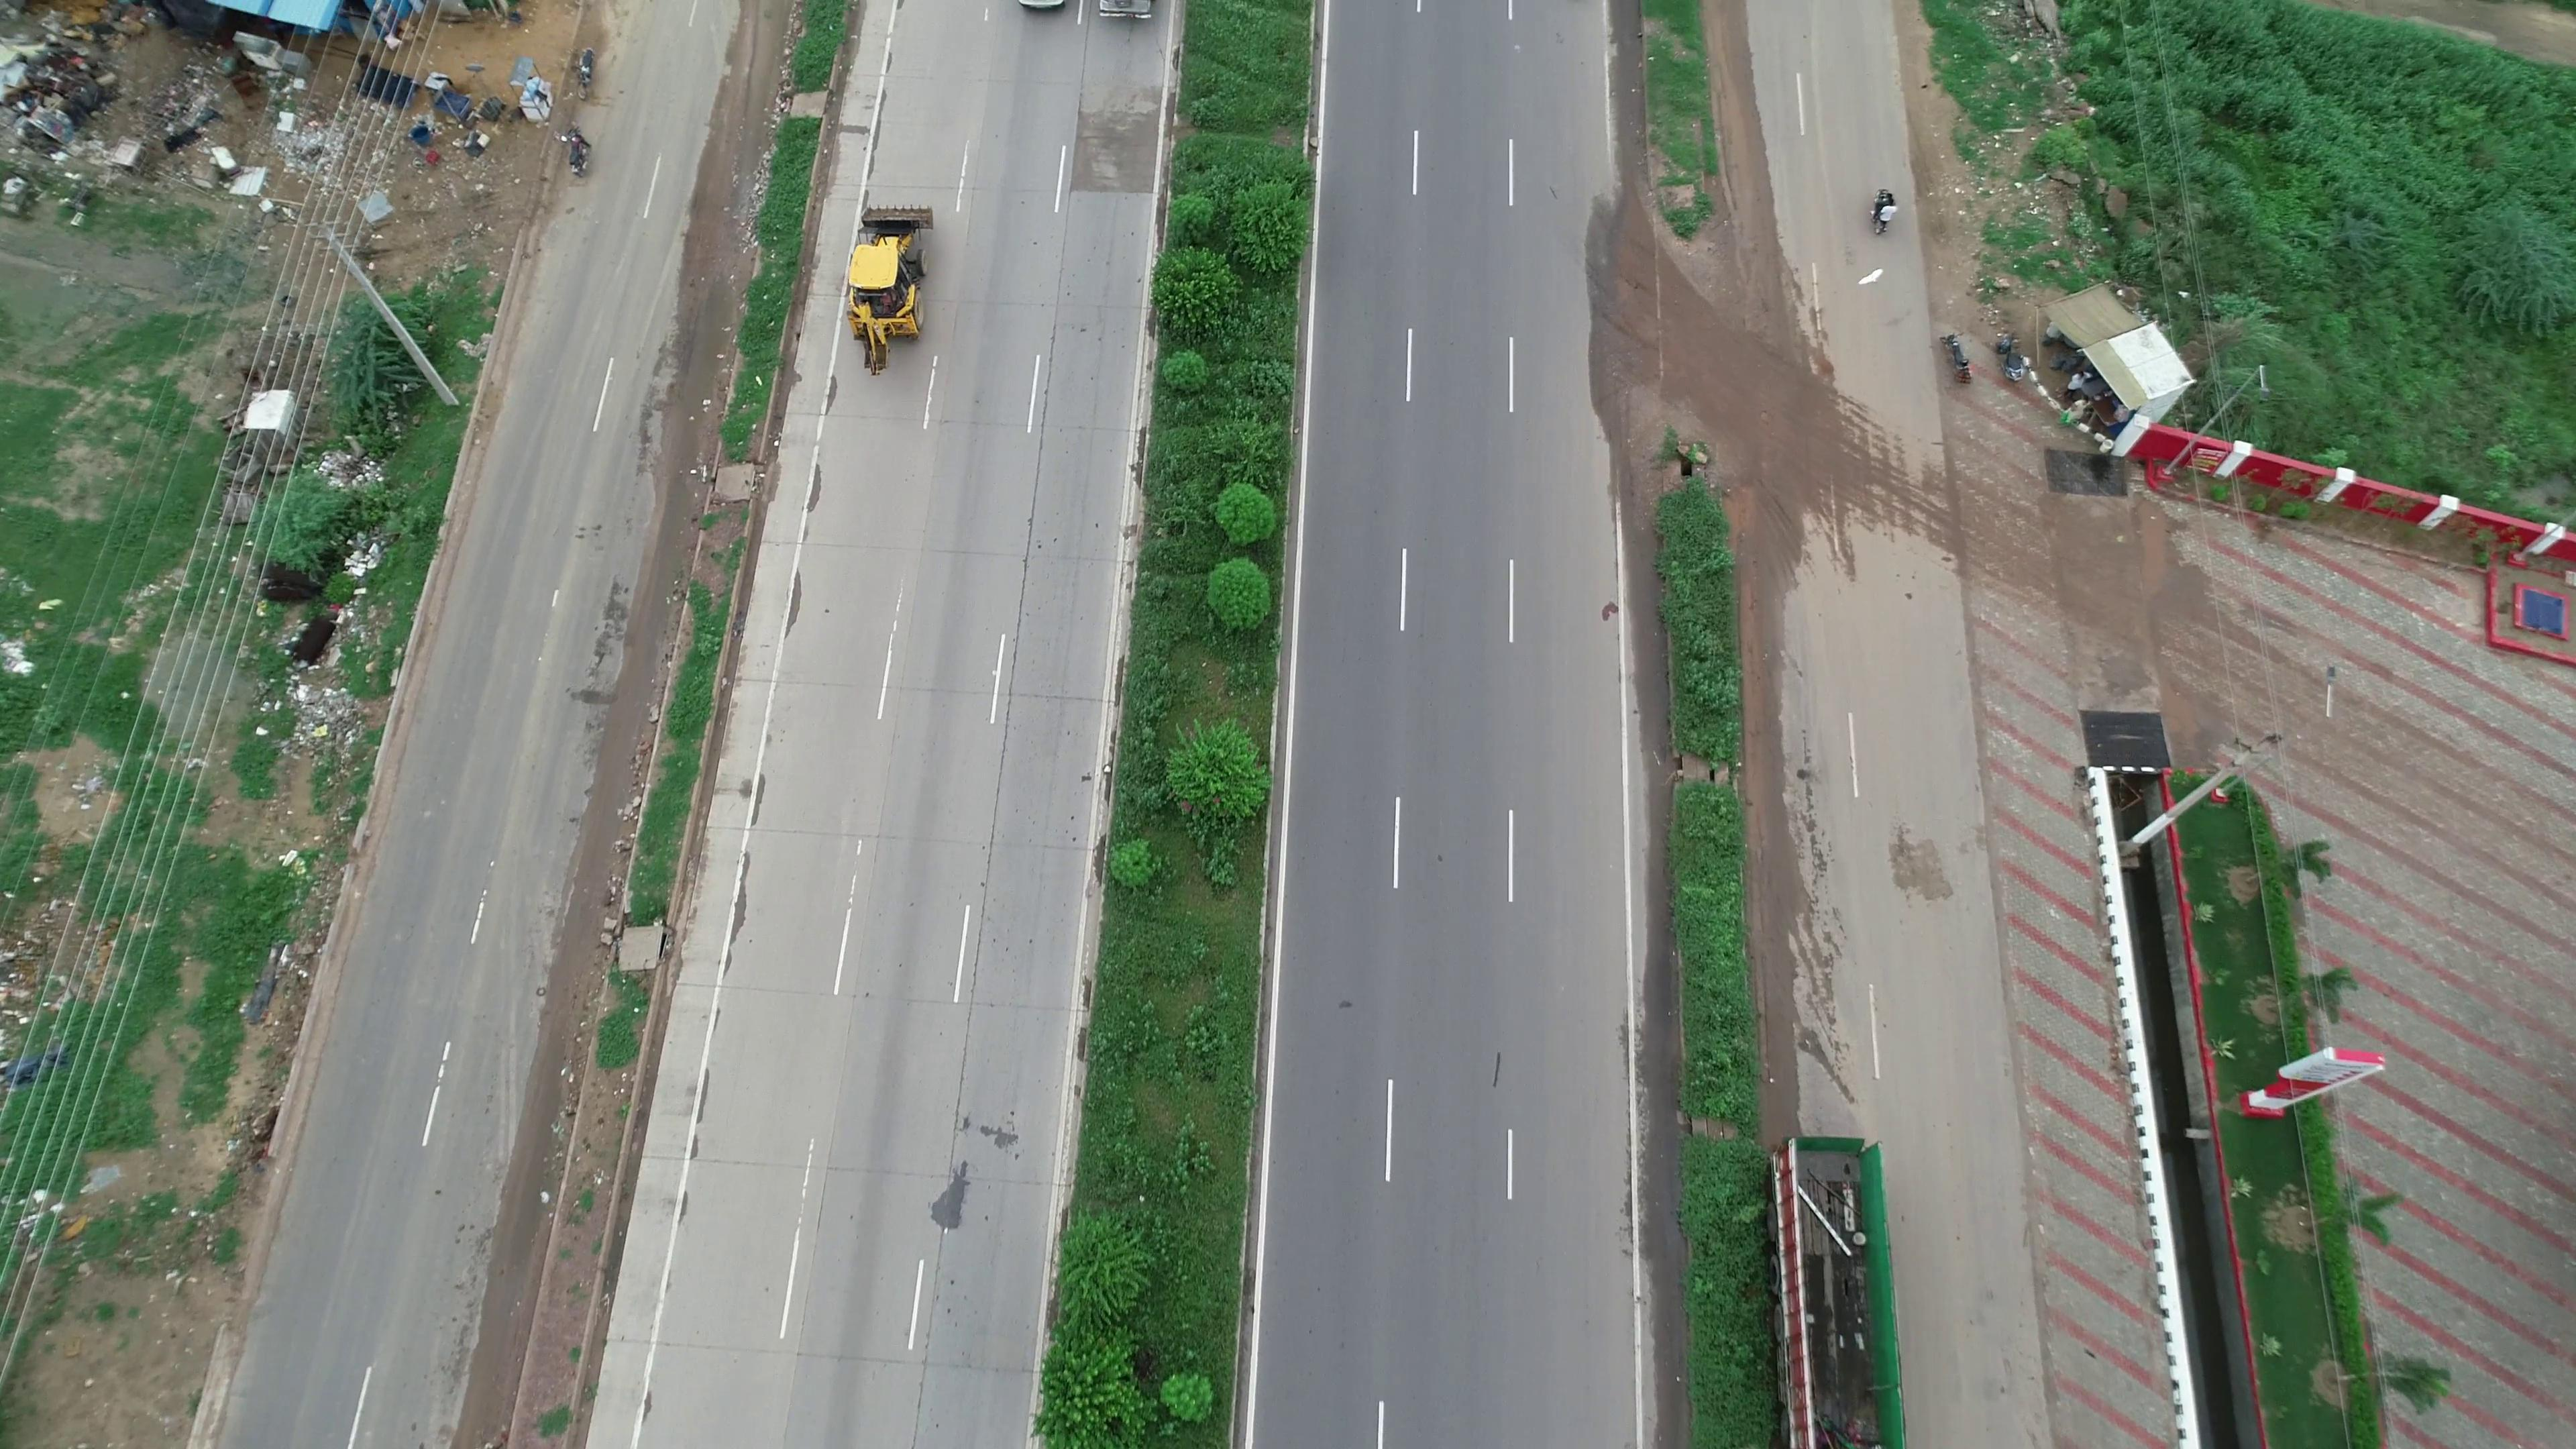Muddy_road: (1729, 239, 1881, 577), (653, 34, 782, 327)
